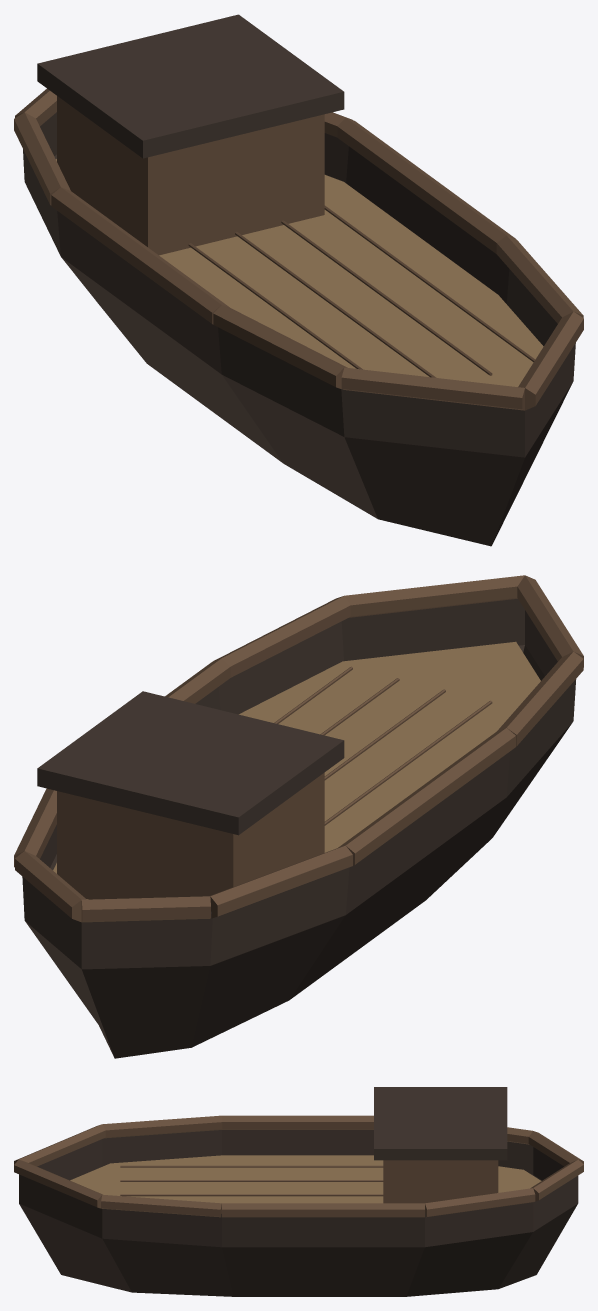
File: ship_hull.glb
The picture shows the model from 3 angles, top to bottom: view 1: azimuth 30°, elevation 25°; view 2: azimuth 150°, elevation 25°; view 3: azimuth 270°, elevation 25°; orthographic projection. The views are drawn at different scales.
Visible parts, largest first — view 1: faceted wooden hull, ship deck, cabin roof, aft cabin, gunwale.007, gunwale.002, gunwale.009, gunwale.008, gunwale.001, gunwale, gunwale.006, deck seams.004 (+4 smaller); view 2: faceted wooden hull, ship deck, cabin roof, aft cabin, gunwale.007, gunwale, gunwale.006, gunwale.001, gunwale.005, gunwale.008, gunwale.009, gunwale.004 (+3 smaller); view 3: faceted wooden hull, ship deck, cabin roof, aft cabin, gunwale.002, gunwale.007, gunwale.001, gunwale.008, gunwale.003, gunwale, gunwale.009, gunwale.004 (+5 smaller).
Boxes of the visible parts, x1,y1,x2,y2 form: faceted wooden hull: (23,112,575,546); ship deck: (56,159,543,386); cabin roof: (37,14,344,158); aft cabin: (57,96,324,255); gunwale.007: (51,187,229,324); gunwale.002: (337,118,515,253); gunwale.009: (341,367,524,410); gunwale.008: (213,305,347,389); gunwale.001: (496,235,583,323); gunwale: (518,311,583,410); gunwale.006: (14,112,70,205); deck seams.004: (324,205,535,362); faceted wooden hull: (22,598,576,1058); ship deck: (53,641,540,899); cabin roof: (37,691,344,835); aft cabin: (57,772,324,899); gunwale.007: (338,728,515,865); gunwale: (344,575,524,617); gunwale.006: (210,845,352,918); gunwale.001: (214,596,350,677); gunwale.005: (81,896,210,922); gunwale.008: (497,651,583,746); gunwale.009: (517,575,583,667); gunwale.004: (15,851,86,922); faceted wooden hull: (19,1130,578,1296); ship deck: (70,1155,541,1203); cabin roof: (374,1087,507,1160); aft cabin: (383,1160,498,1203); gunwale.002: (222,1203,424,1217); gunwale.007: (222,1115,373,1129); gunwale.001: (101,1194,221,1217); gunwale.008: (102,1115,222,1138); gunwale.003: (425,1188,535,1217); gunwale: (14,1159,102,1208); gunwale.009: (14,1124,105,1166); gunwale.004: (530,1159,583,1201).
Bounding box in the file's own units: 0.9806 × 0.7675 × 2.53.
